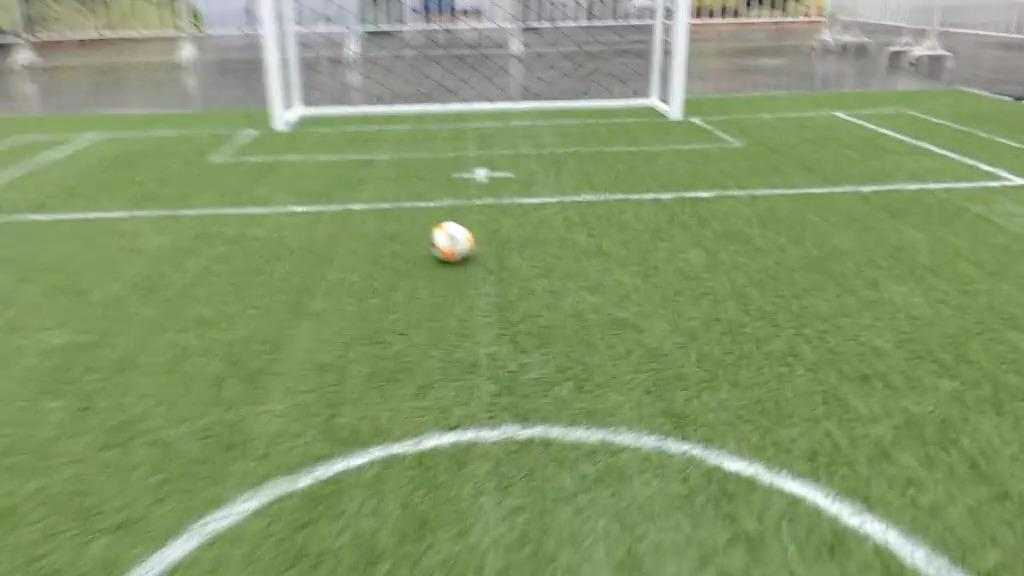ball: (418, 212, 482, 271)
